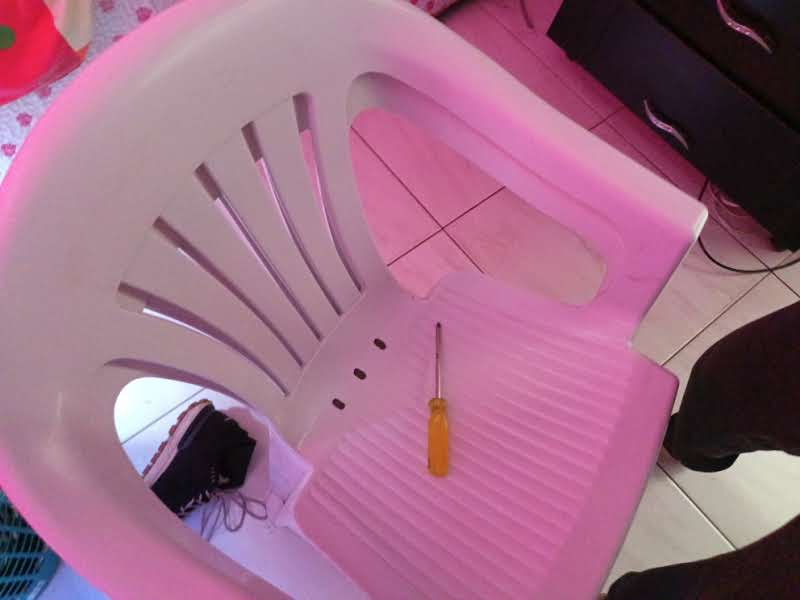Destornillador: (427, 321, 451, 477)
